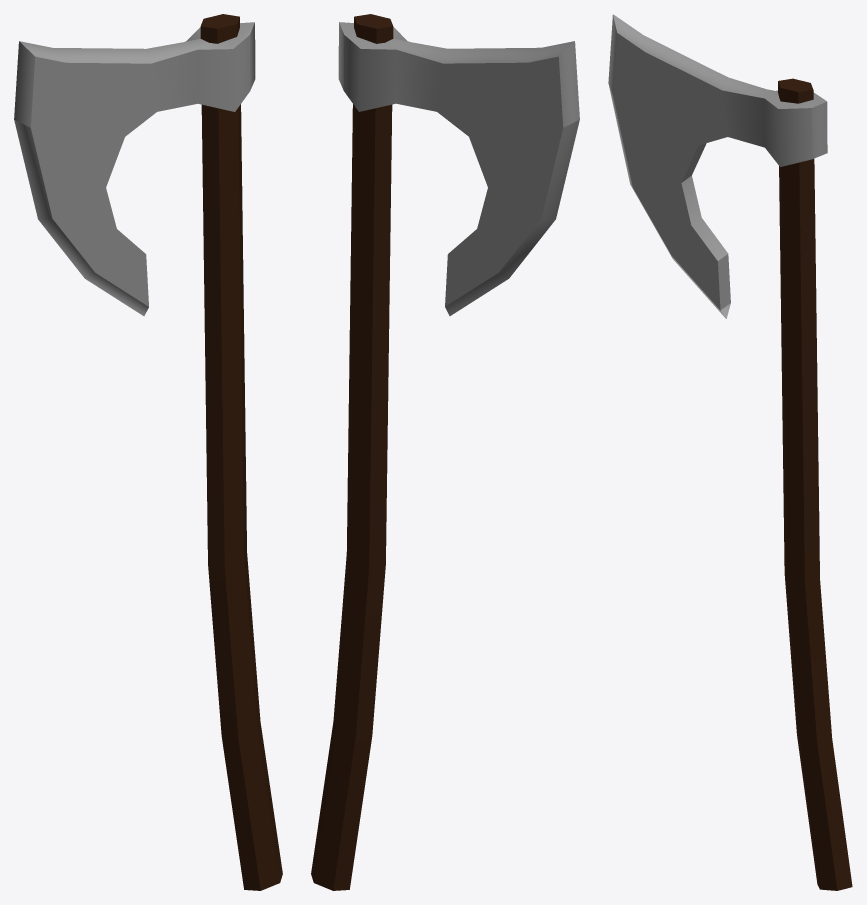
The model's file is axe.fbx.
The picture shows the model from 3 angles, left to right: view 1: azimuth 30°, elevation 25°; view 2: azimuth 150°, elevation 25°; view 3: azimuth 330°, elevation 25°; orthographic projection. The views are drawn at different scales.
Visible parts, largest first — view 1: pCube2; view 2: pCube2; view 3: pCube2.
Boxes of the visible parts, x1,y1,x2,y2 form: pCube2: [14, 14, 282, 890]; pCube2: [311, 14, 579, 890]; pCube2: [608, 14, 852, 890].
Size of the model in its own units: 3.48 by 11.16 by 0.7113.
